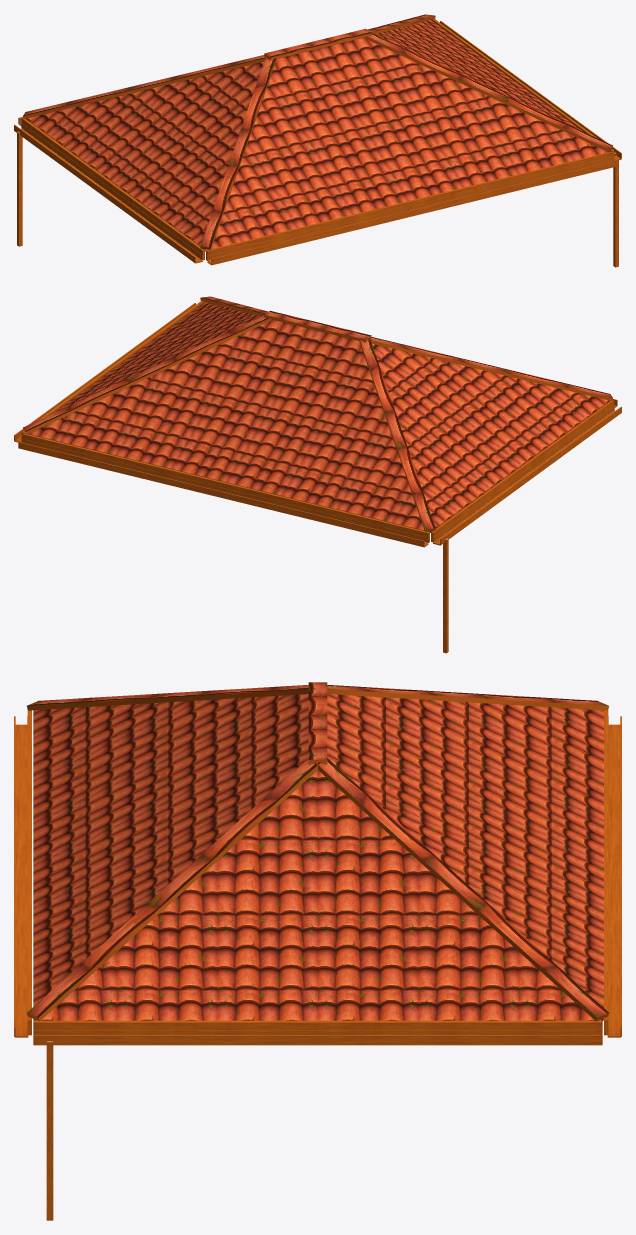
The model's file is Roof_Hip_8x6.fbx.
3 views of the same model, one above another, from view 1: azimuth 30°, elevation 25°; view 2: azimuth 150°, elevation 25°; view 3: azimuth 270°, elevation 25° (orthographic). The views are drawn at different scales.
Parts seen in each view (by area): view 1: Roof_Hip_8x6; view 2: Roof_Hip_8x6; view 3: Roof_Hip_8x6.
Boxes of the visible parts, <box> form: Roof_Hip_8x6: <box>14,14,621,267</box>; Roof_Hip_8x6: <box>14,296,621,653</box>; Roof_Hip_8x6: <box>14,682,621,1220</box>.
Size of the model in its own units: 9.32 by 4.41 by 7.26.
